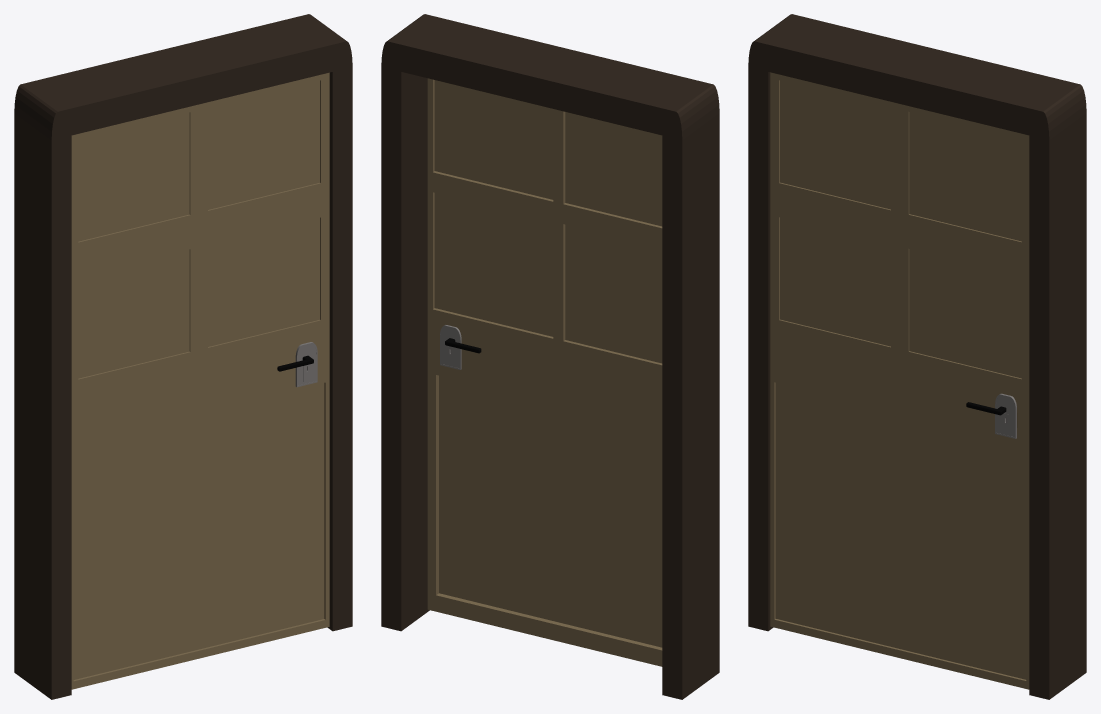
Rendered from door.fbx.
The picture shows the model from 3 angles, left to right: view 1: azimuth 30°, elevation 25°; view 2: azimuth 150°, elevation 25°; view 3: azimuth 330°, elevation 25°; orthographic projection.
Parts seen in each view (by area): view 1: Door.001, DoorFrame; view 2: Door.001, DoorFrame; view 3: Door.001, DoorFrame.
Boxes of the visible parts, left/top/right/bottom form: Door.001: left=71, top=72, right=329, bottom=689; DoorFrame: left=14, top=14, right=352, bottom=699; Door.001: left=427, top=78, right=662, bottom=666; DoorFrame: left=381, top=14, right=719, bottom=699; Door.001: left=770, top=72, right=1029, bottom=689; DoorFrame: left=748, top=14, right=1086, bottom=699.
Bounding box in the file's own units: 244 × 455 × 59.5.
